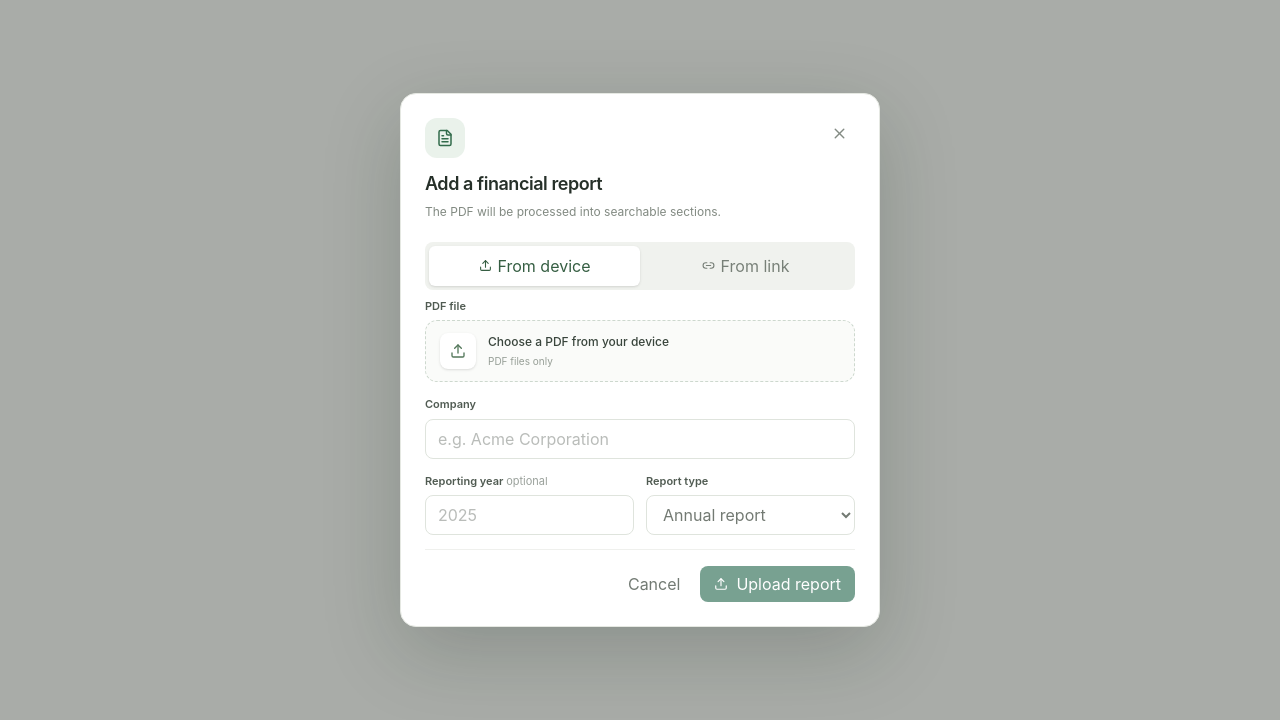
UploadDialog › imports a public report link and fills Reliance metadata from its URL
Later steps or results of the test are not shown.
Click the tab "From link" at (746, 266), box top-left (640, 246), bottom-right (851, 286)
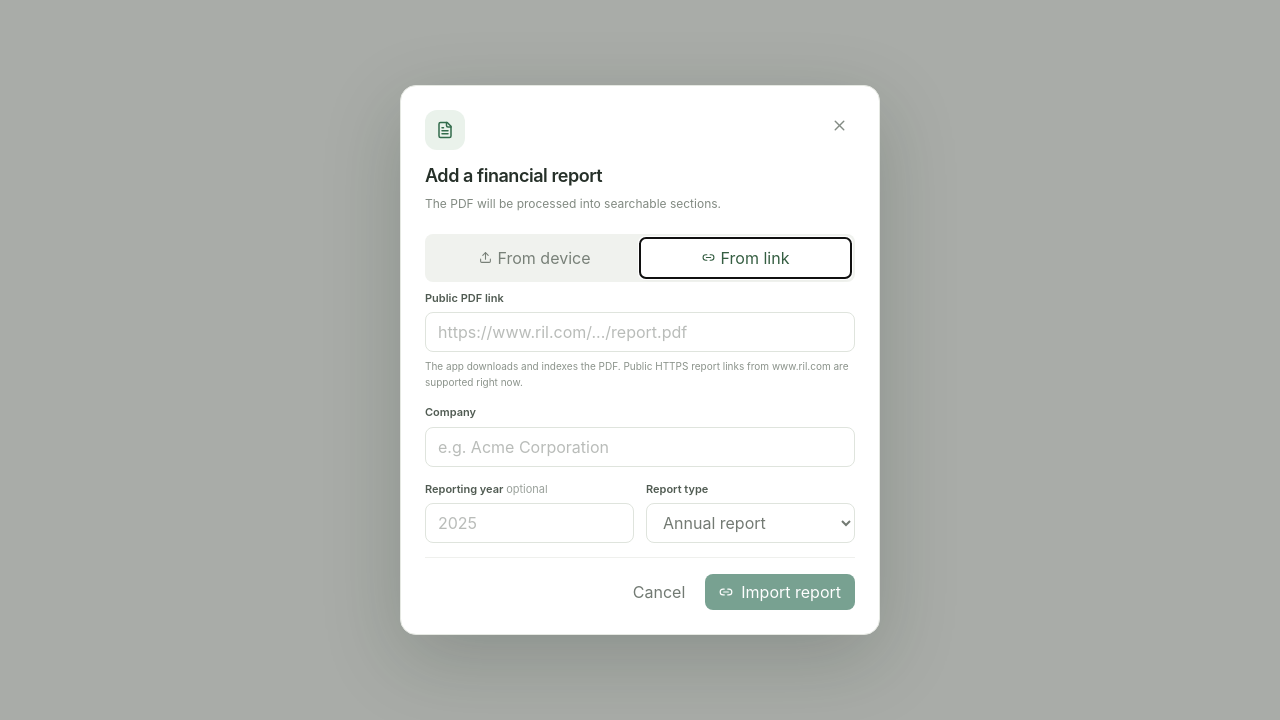
Type "https://www.ril.com/sites/default/files/reports/RIL-Integrated-Annual-Report-2025-26.pdf" into the field labelled "Public PDF link" at (640, 332), box top-left (425, 312), bottom-right (855, 352)
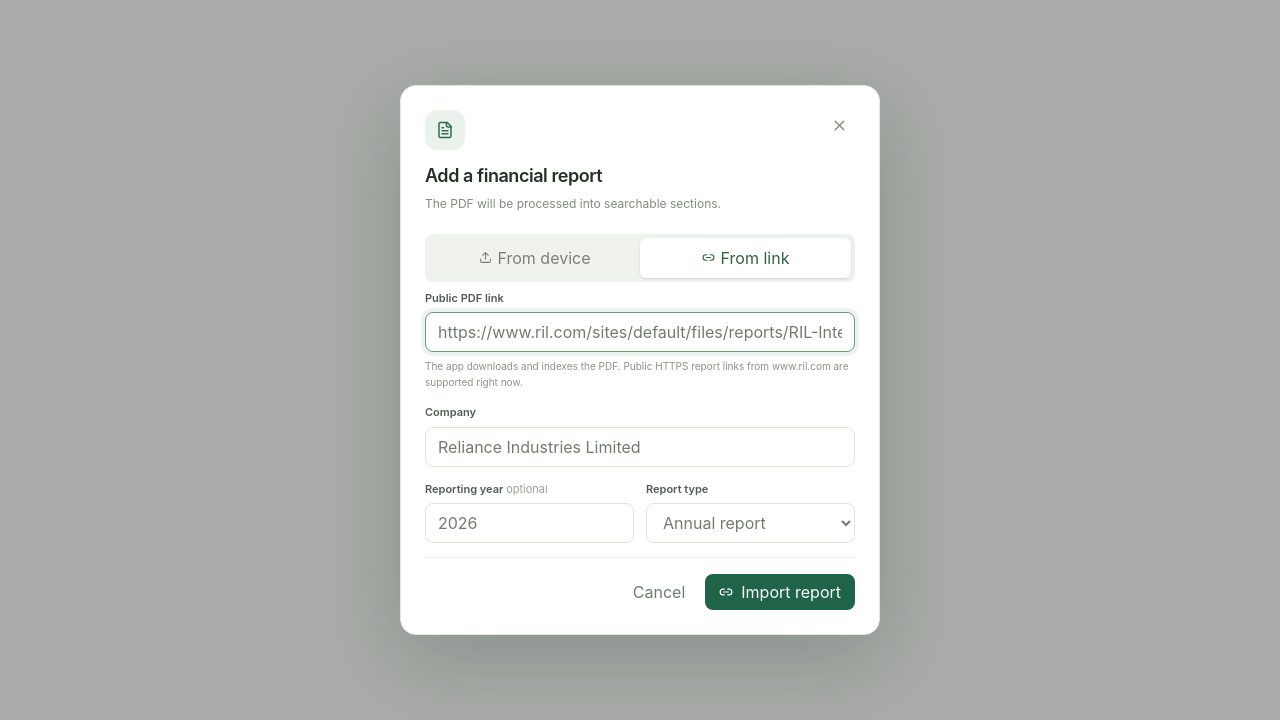
expect the field labelled "Company" holds "Reliance Industries Limited": met, box top-left (425, 427), bottom-right (855, 467)
expect the number field labelled "Reporting year" holds "2026": met, box top-left (425, 503), bottom-right (634, 543)
